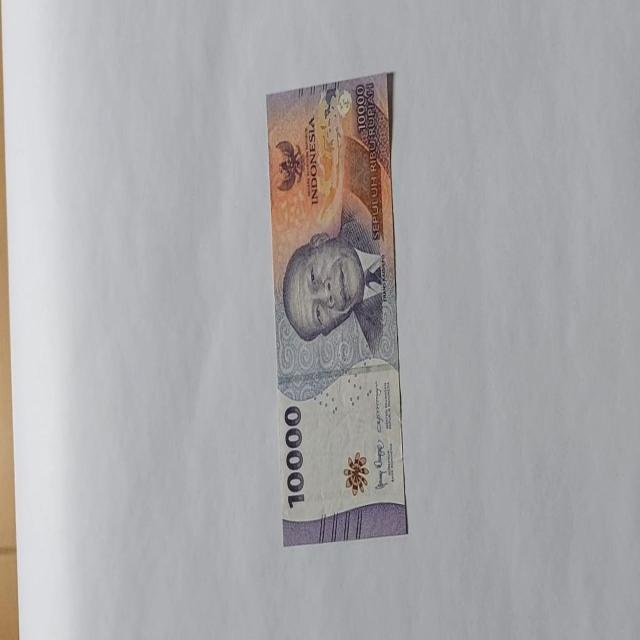Kertas: (265, 72, 408, 546)
